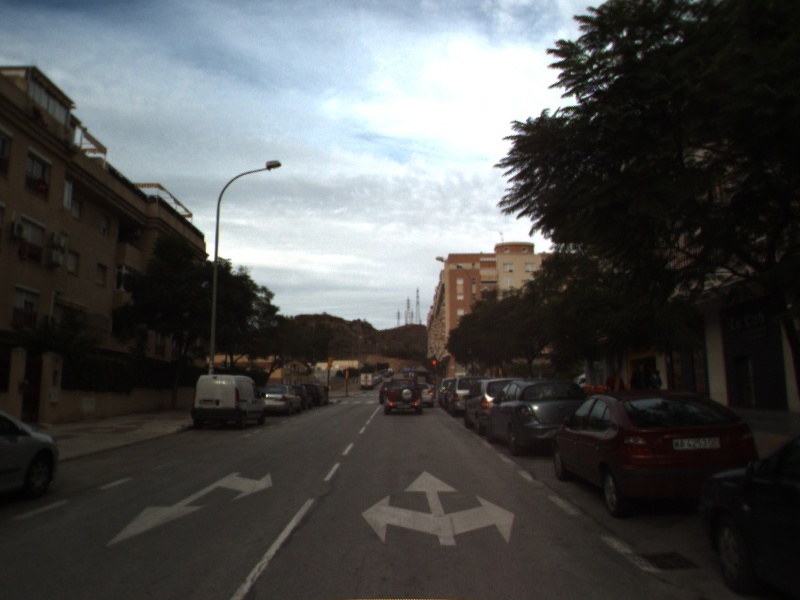STRAIGHT_LEFT_RIGHT: (359, 469, 517, 548)
